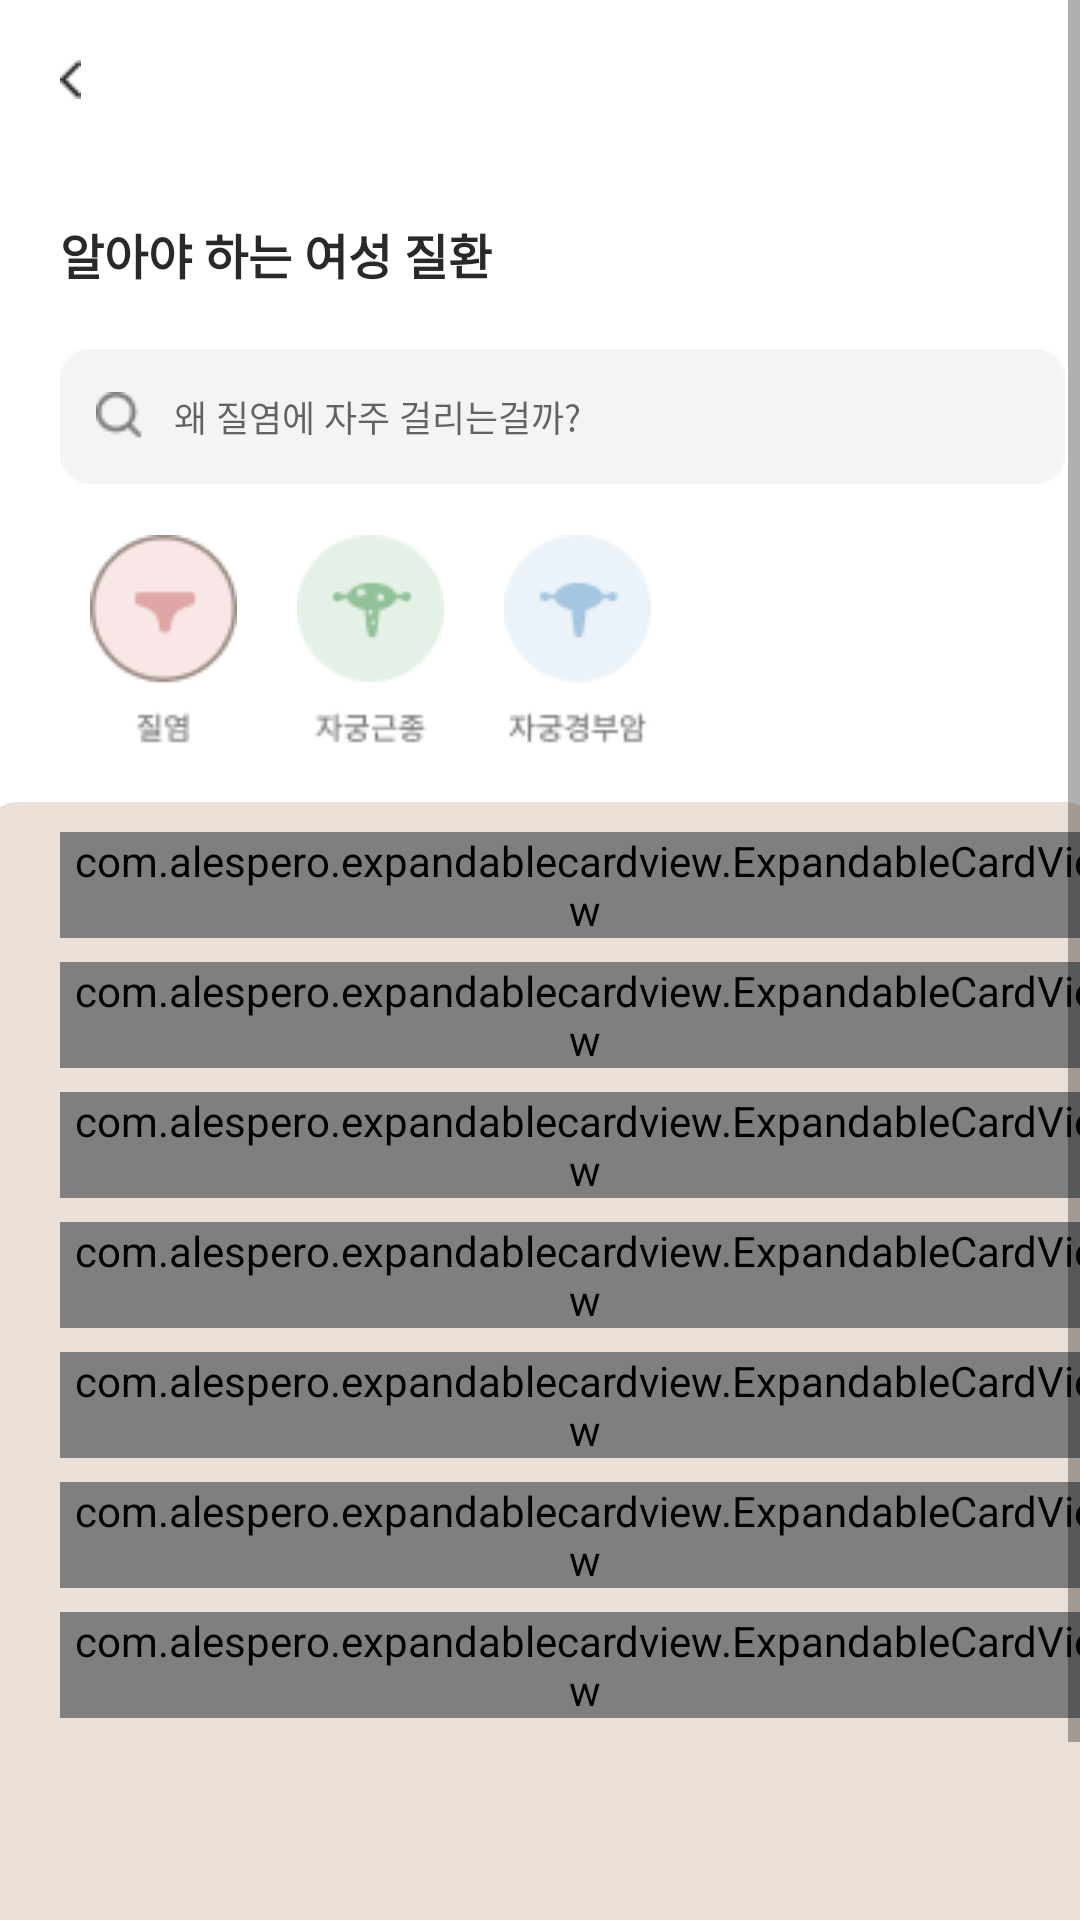

Where to tap for icons on this 1080*1920 app screen, as (x=x, y=y):
backbutton: (x=70, y=79)
